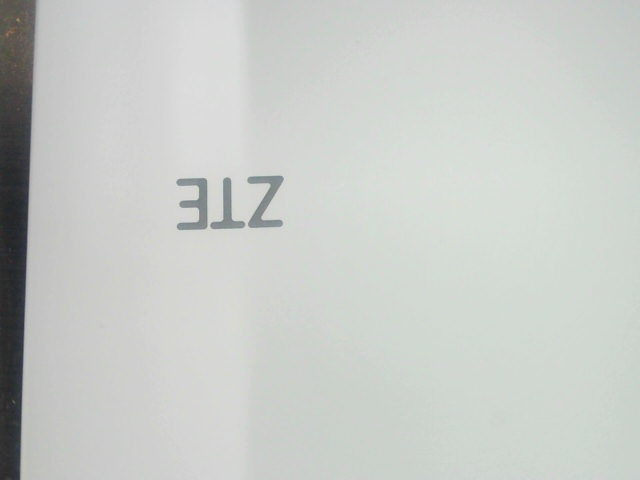AO_ZTESmall: (167, 164, 302, 238)
